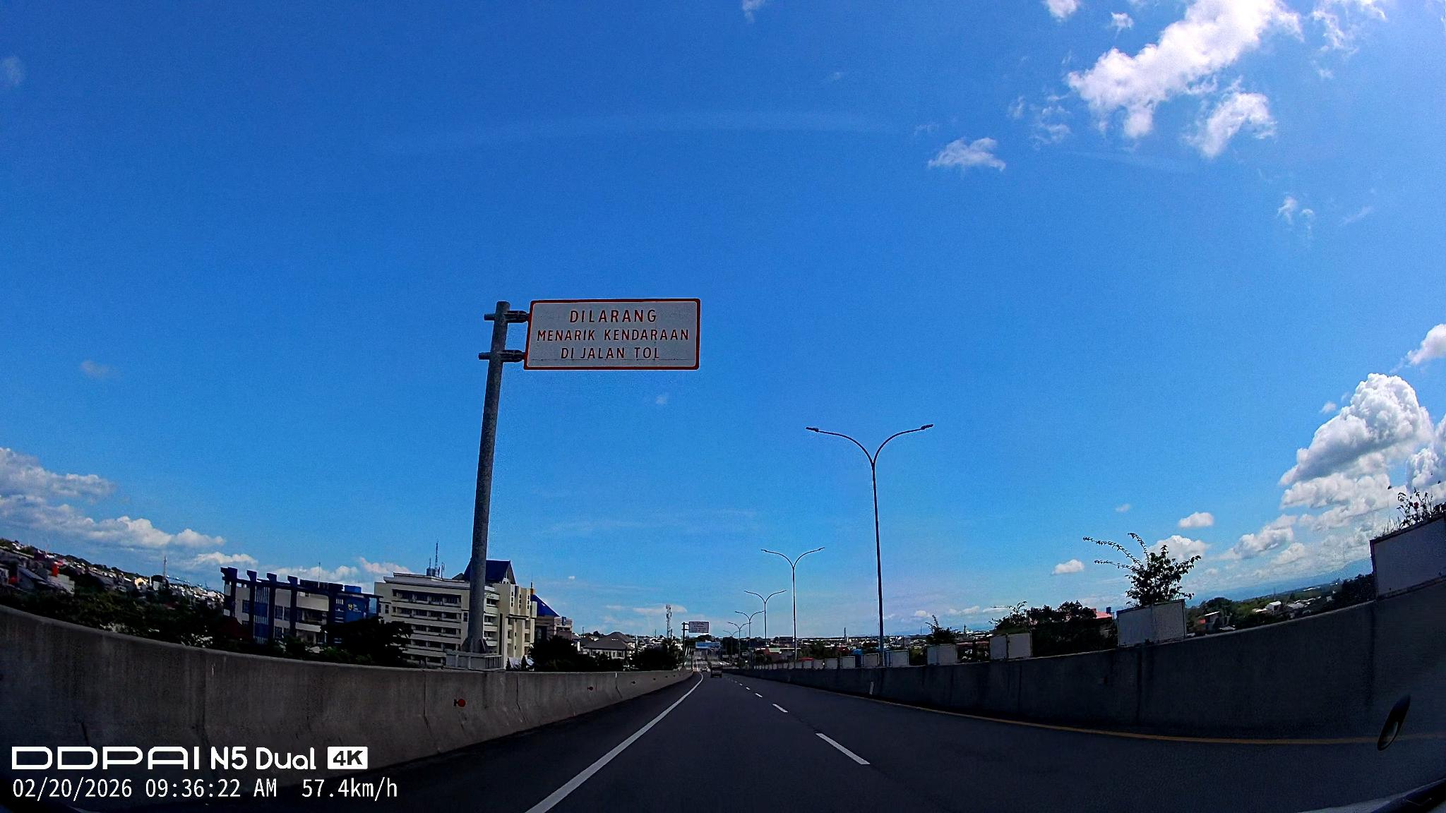rambu_teks: (524, 297, 702, 371)
